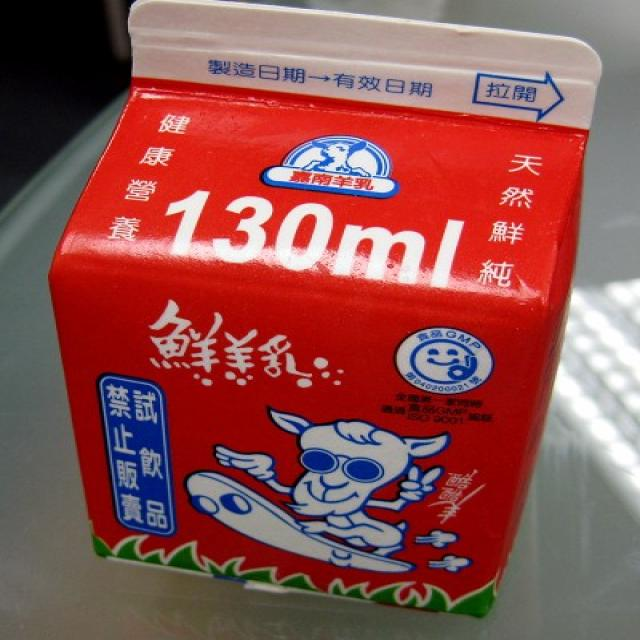cardboard: (61, 0, 593, 616)
